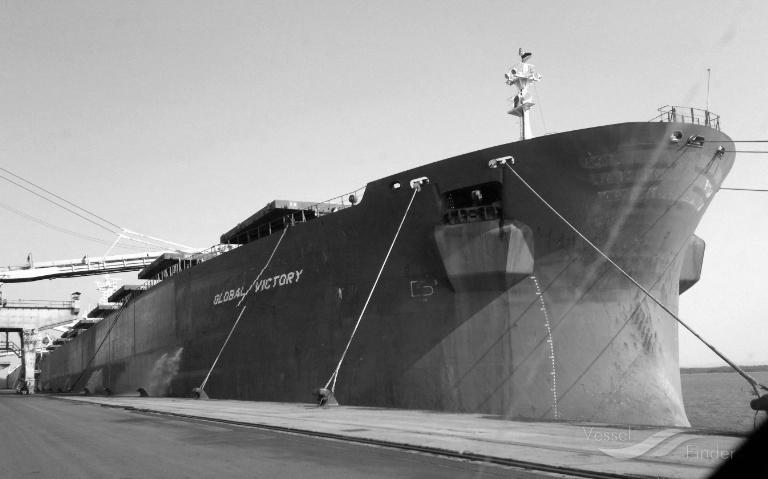OCR: (210, 267, 313, 307)
